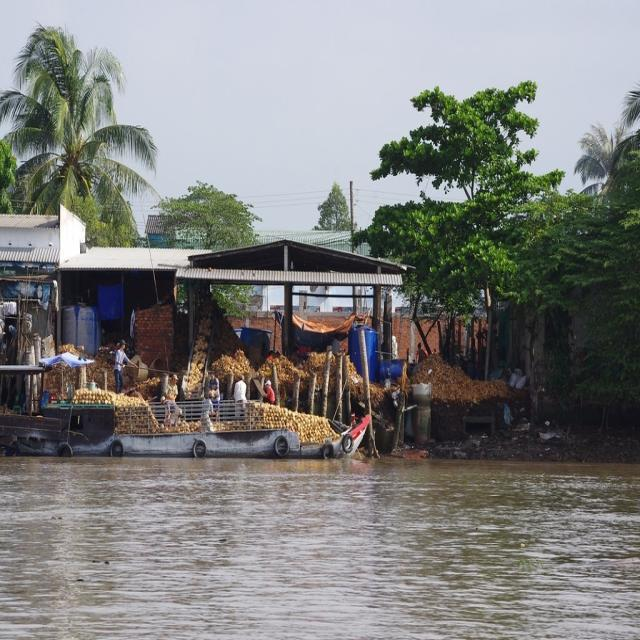boat: (41, 398, 381, 467)
